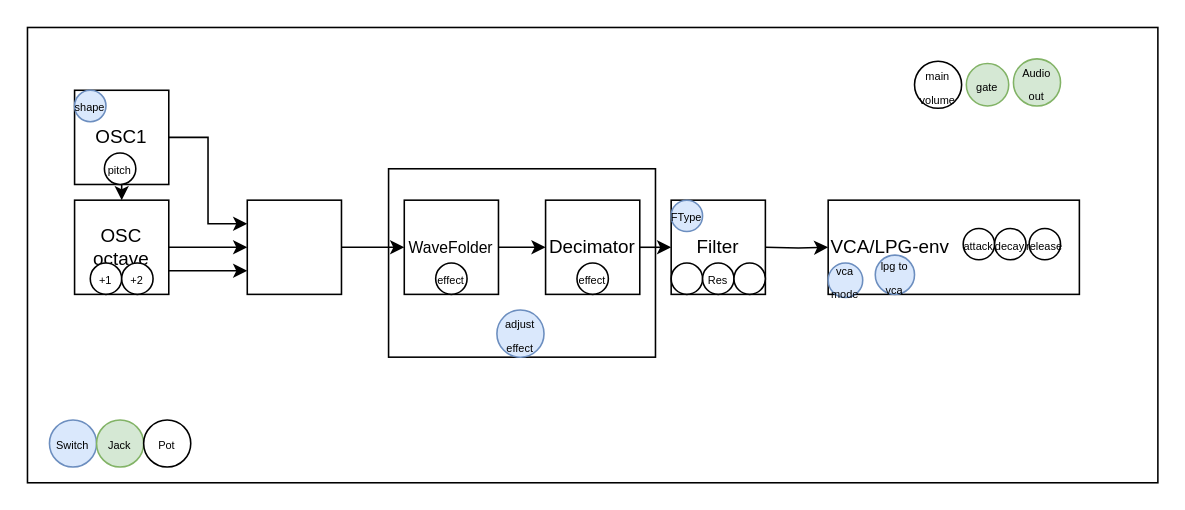
Some shapes in this 1185 by 510 pixel diagram are drawn without their labels. Here are the shapes that lost their labels. From the top down, the centre of each, then its label:
pixel 293 246: Mixer
pixel 686 277: Freq
pixel 748 277: Drive
